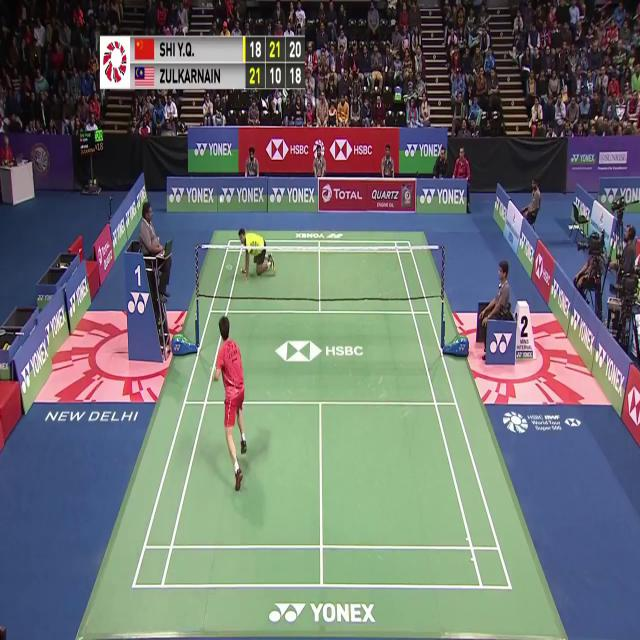Shuttlecock: (217, 195, 224, 207)
